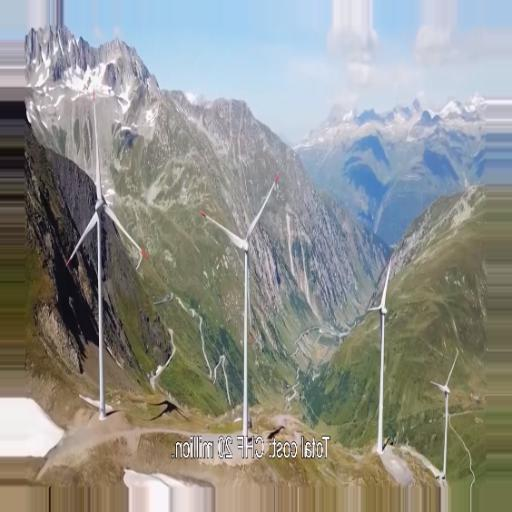wind turbine: (66, 103, 149, 424), (199, 174, 281, 445), (364, 258, 393, 448), (428, 354, 457, 476)
